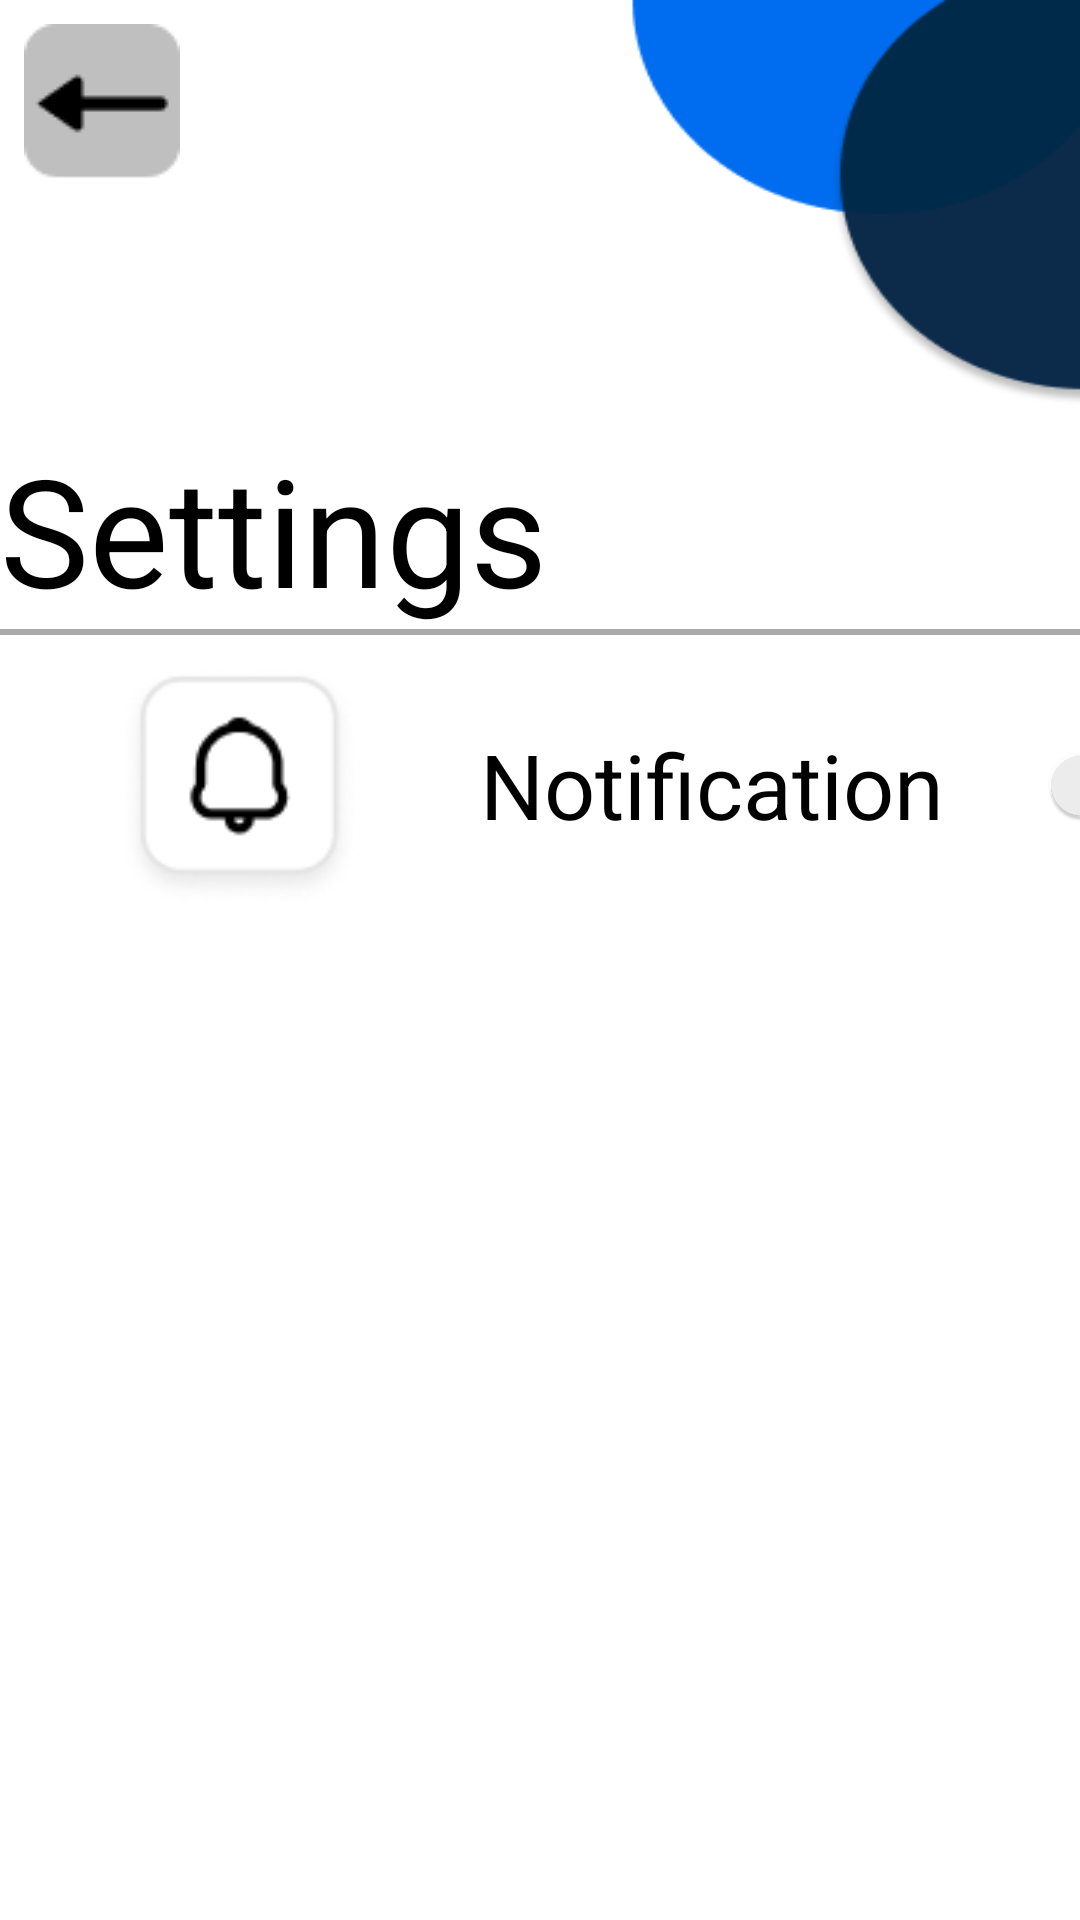

Screen size 1080px×1920px. Icon name, then its box in pixels as (x1, y1, x2, y2):
backbutton: (24, 24, 180, 177)
